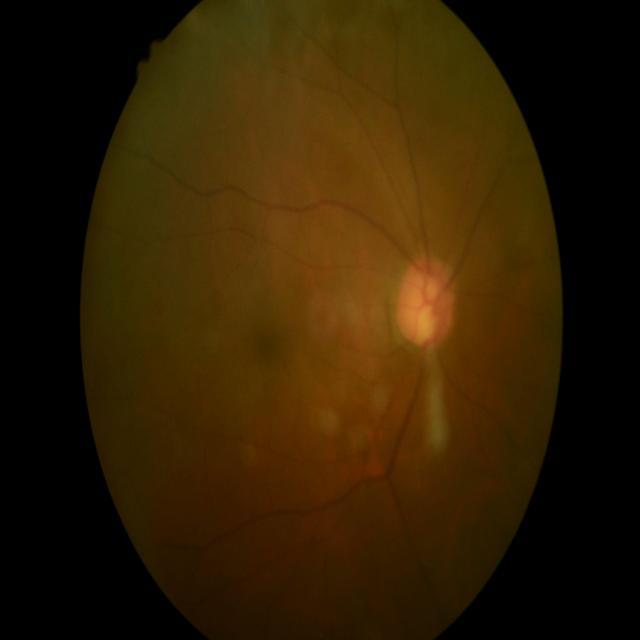cup: (406, 272, 438, 340)
disk: (396, 258, 454, 349)
